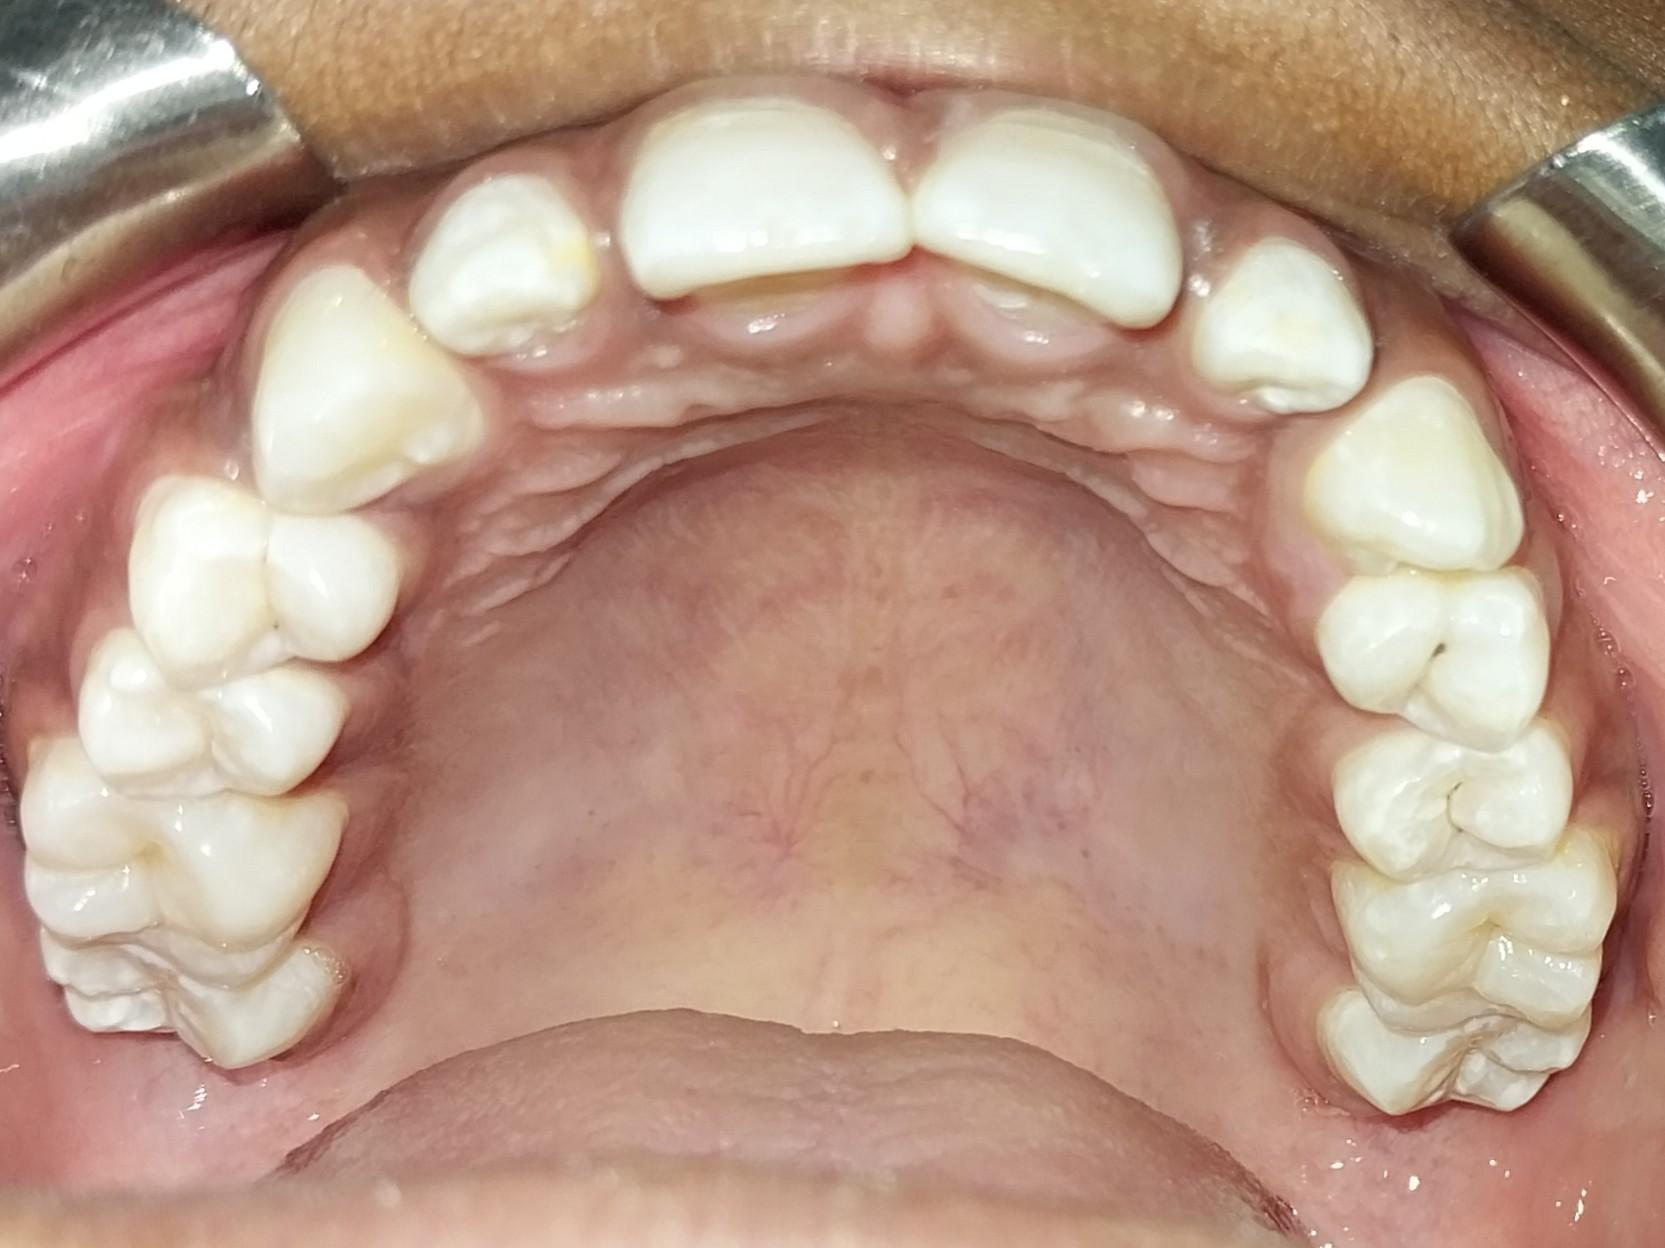D: (1319, 562, 1551, 743)
